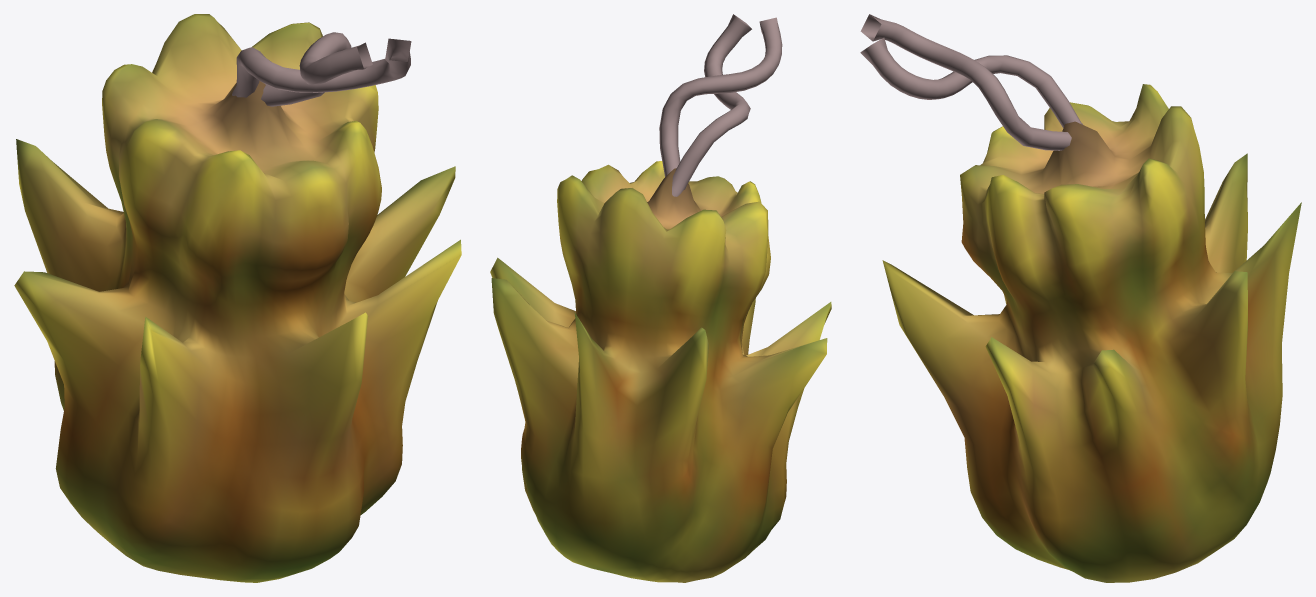
File: LightFruit.fbx
3 renders of one model, left to right at view 1: azimuth 30°, elevation 25°; view 2: azimuth 150°, elevation 25°; view 3: azimuth 270°, elevation 25°, orthographic. The views are drawn at different scales.
Visible parts, largest first — view 1: LightFruit; view 2: LightFruit; view 3: LightFruit.
Part boxes in pixels (x1=…): LightFruit: x1=14, y1=14, x2=461, y2=582; LightFruit: x1=490, y1=14, x2=831, y2=582; LightFruit: x1=860, y1=14, x2=1301, y2=582.
Bounding box in the file's own units: 1.51 × 2.03 × 1.51.
Materials: 2 (1 with a texture image).
